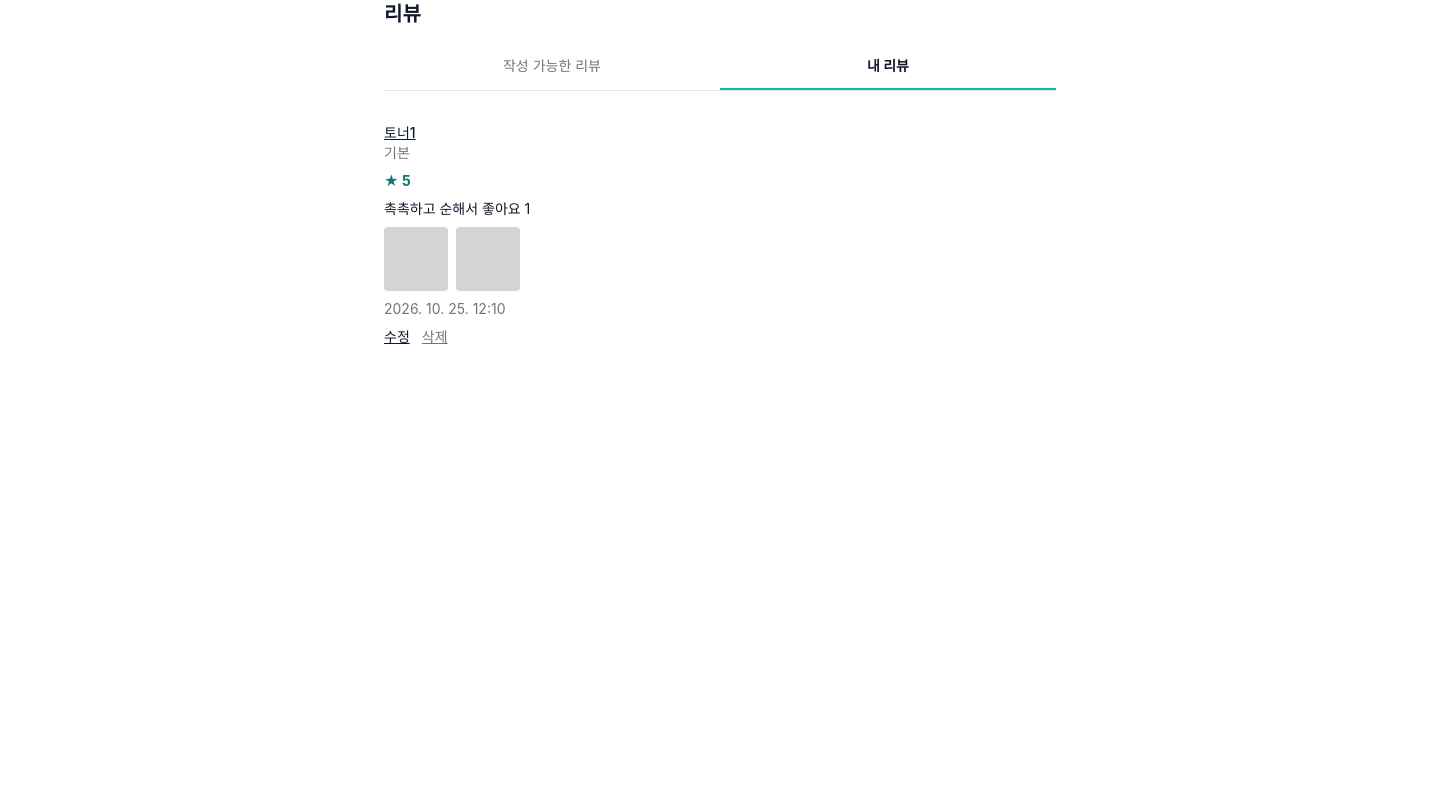
Test case: 사진이 있는 리뷰를 고치면 사진 목록을 그대로 보낸다
Click the button "수정" at (397, 337), box [384,327,410,347]
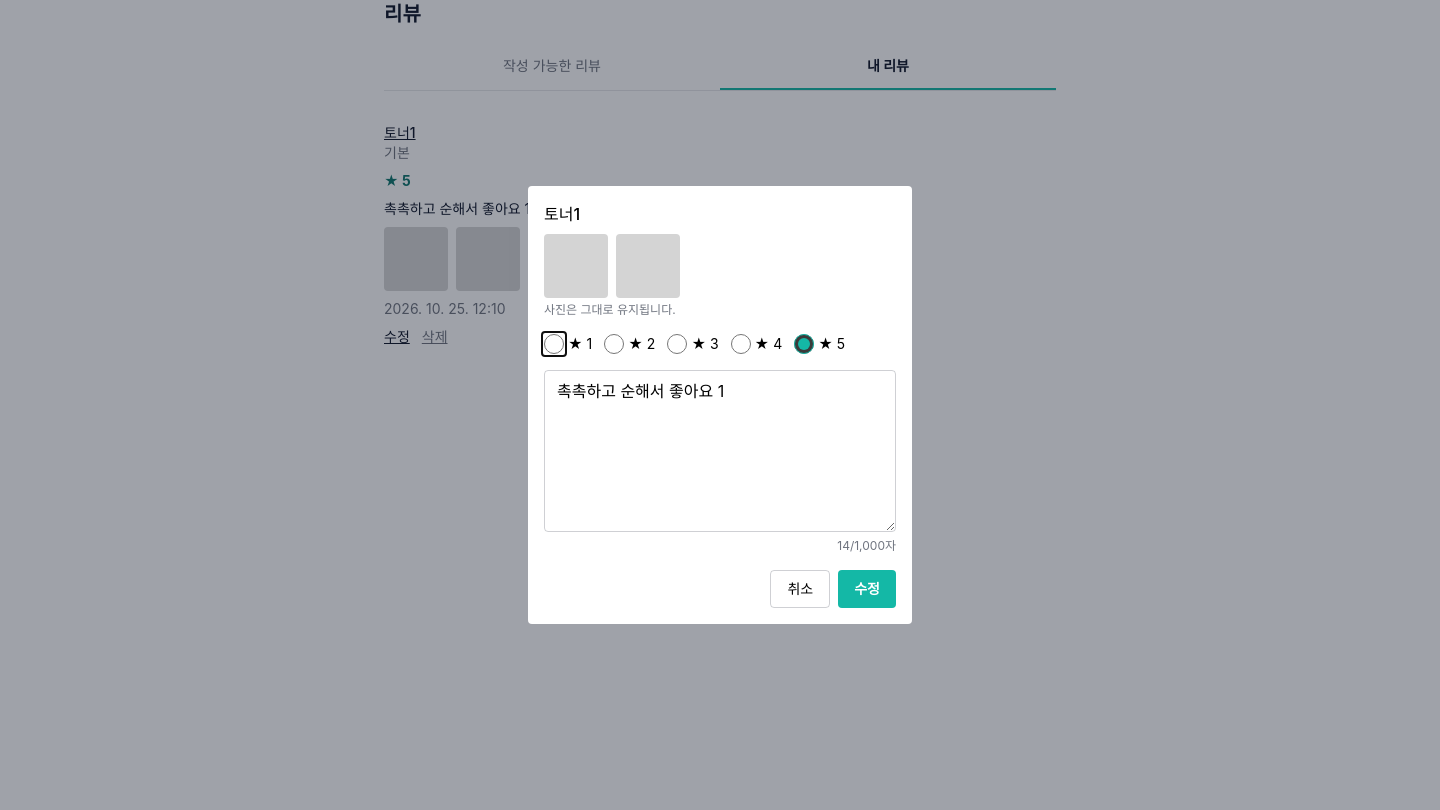
Check: the text "사진은 그대로 유지됩니다." is shown, box [544,302,676,317]
Check: the radio button named "별점 5점" is checked, box [794,334,814,354]
Click the radio button labelled "★ 3" at (677, 344), box [667,334,687,354]
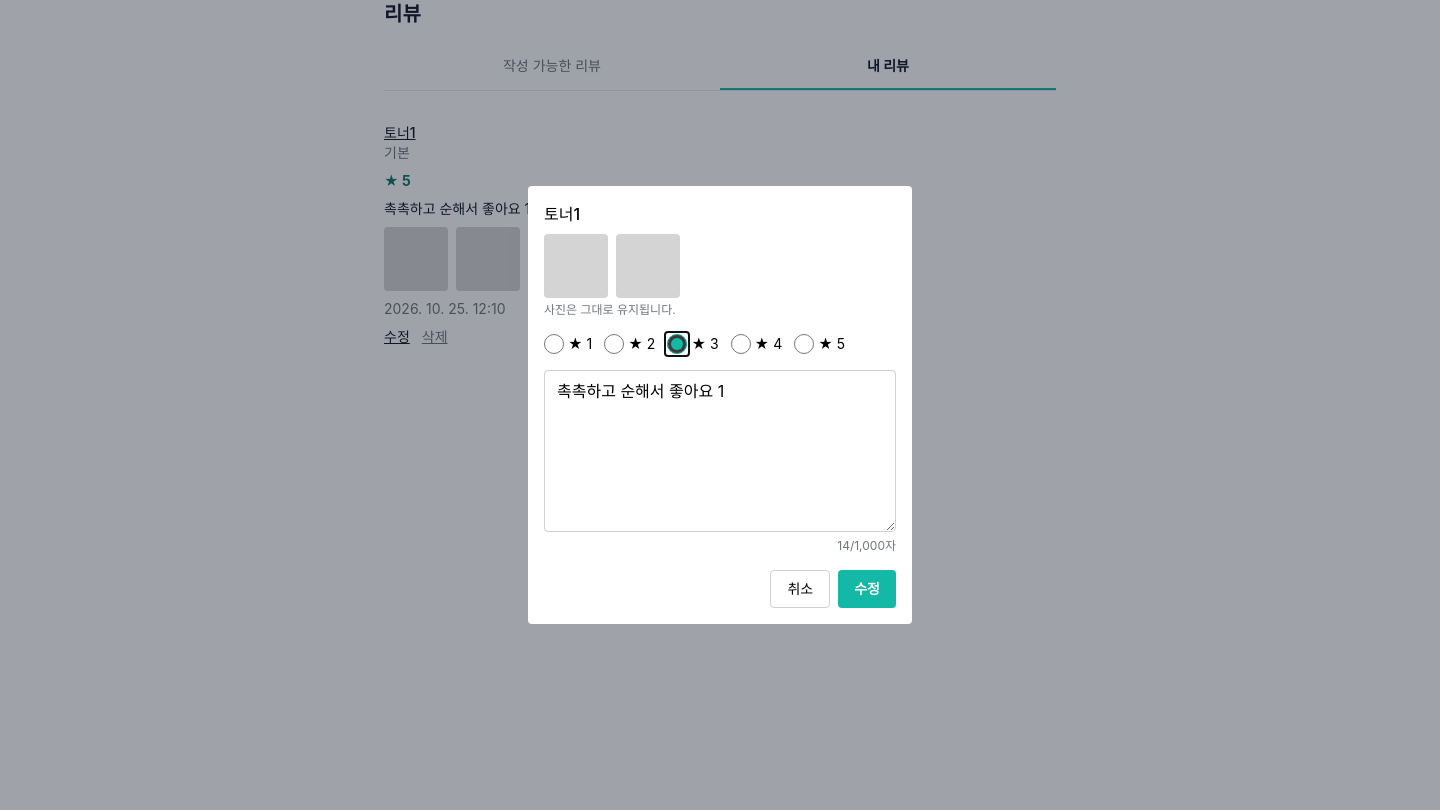
Replace the text in the text box named "리뷰 내용" with "조금 건조하지만 무난해요" at (720, 451), box [544,370,896,532]
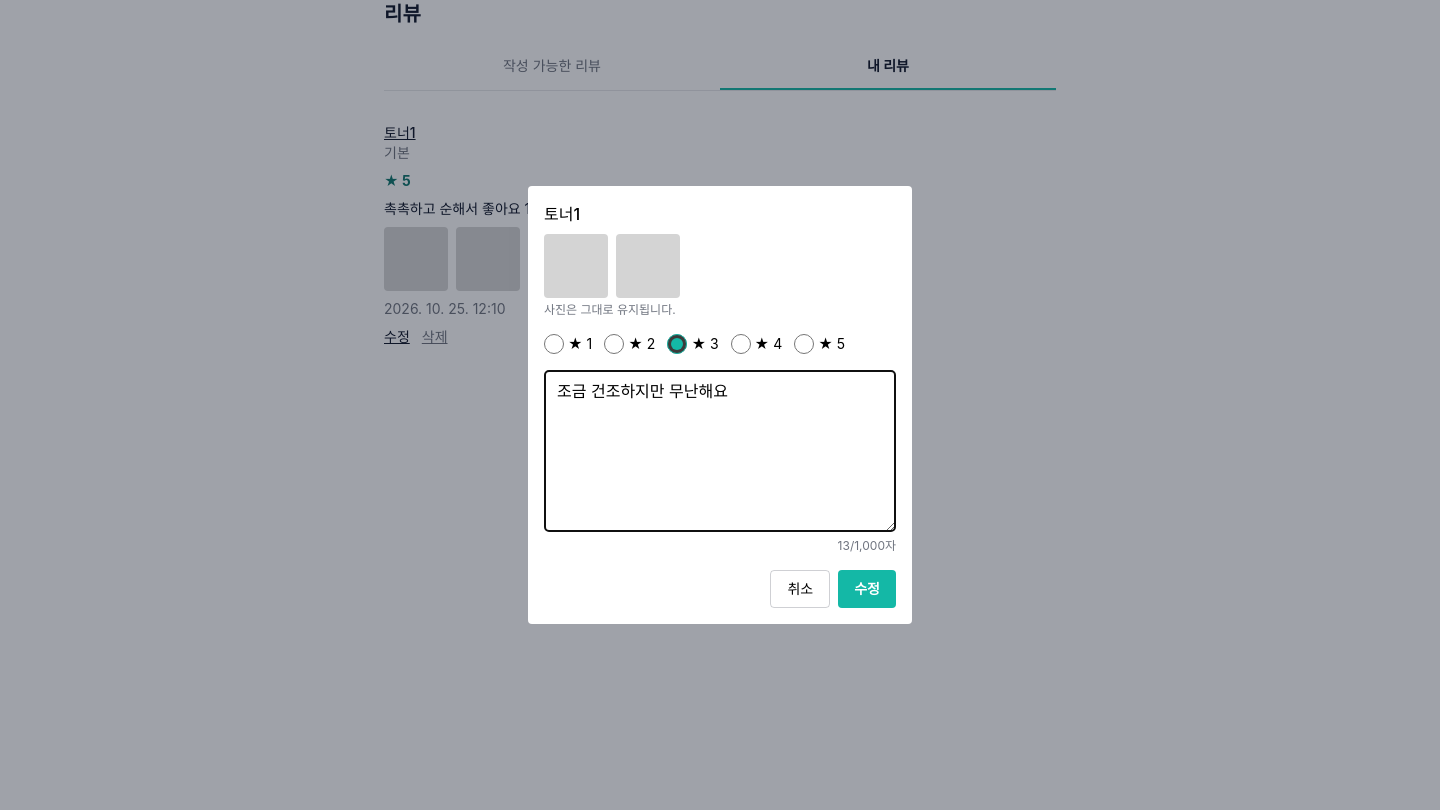
Click the button "수정" at (867, 589), box [838,570,896,608]
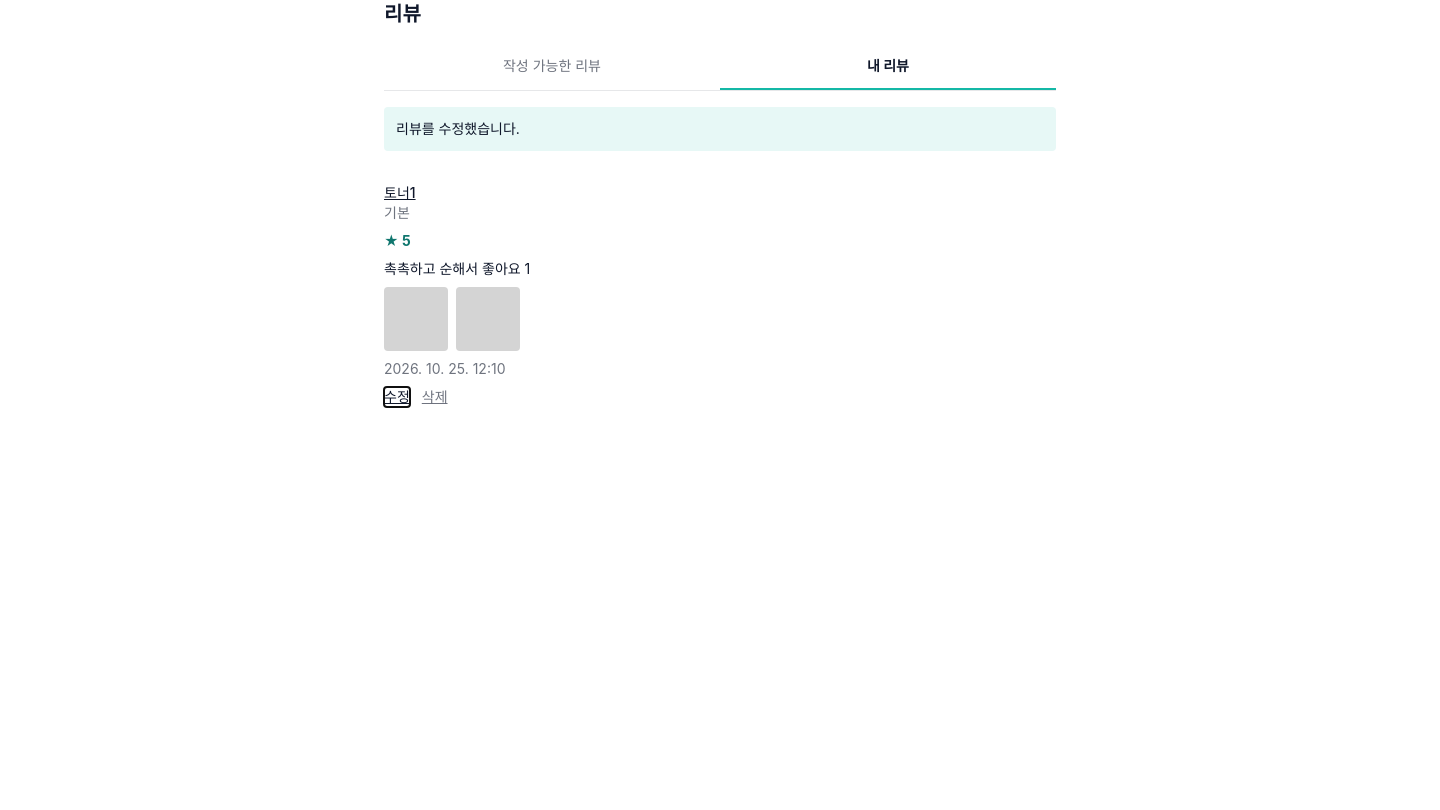
Check: the message reads "리뷰를 수정했습니다.", box [396,120,520,137]
